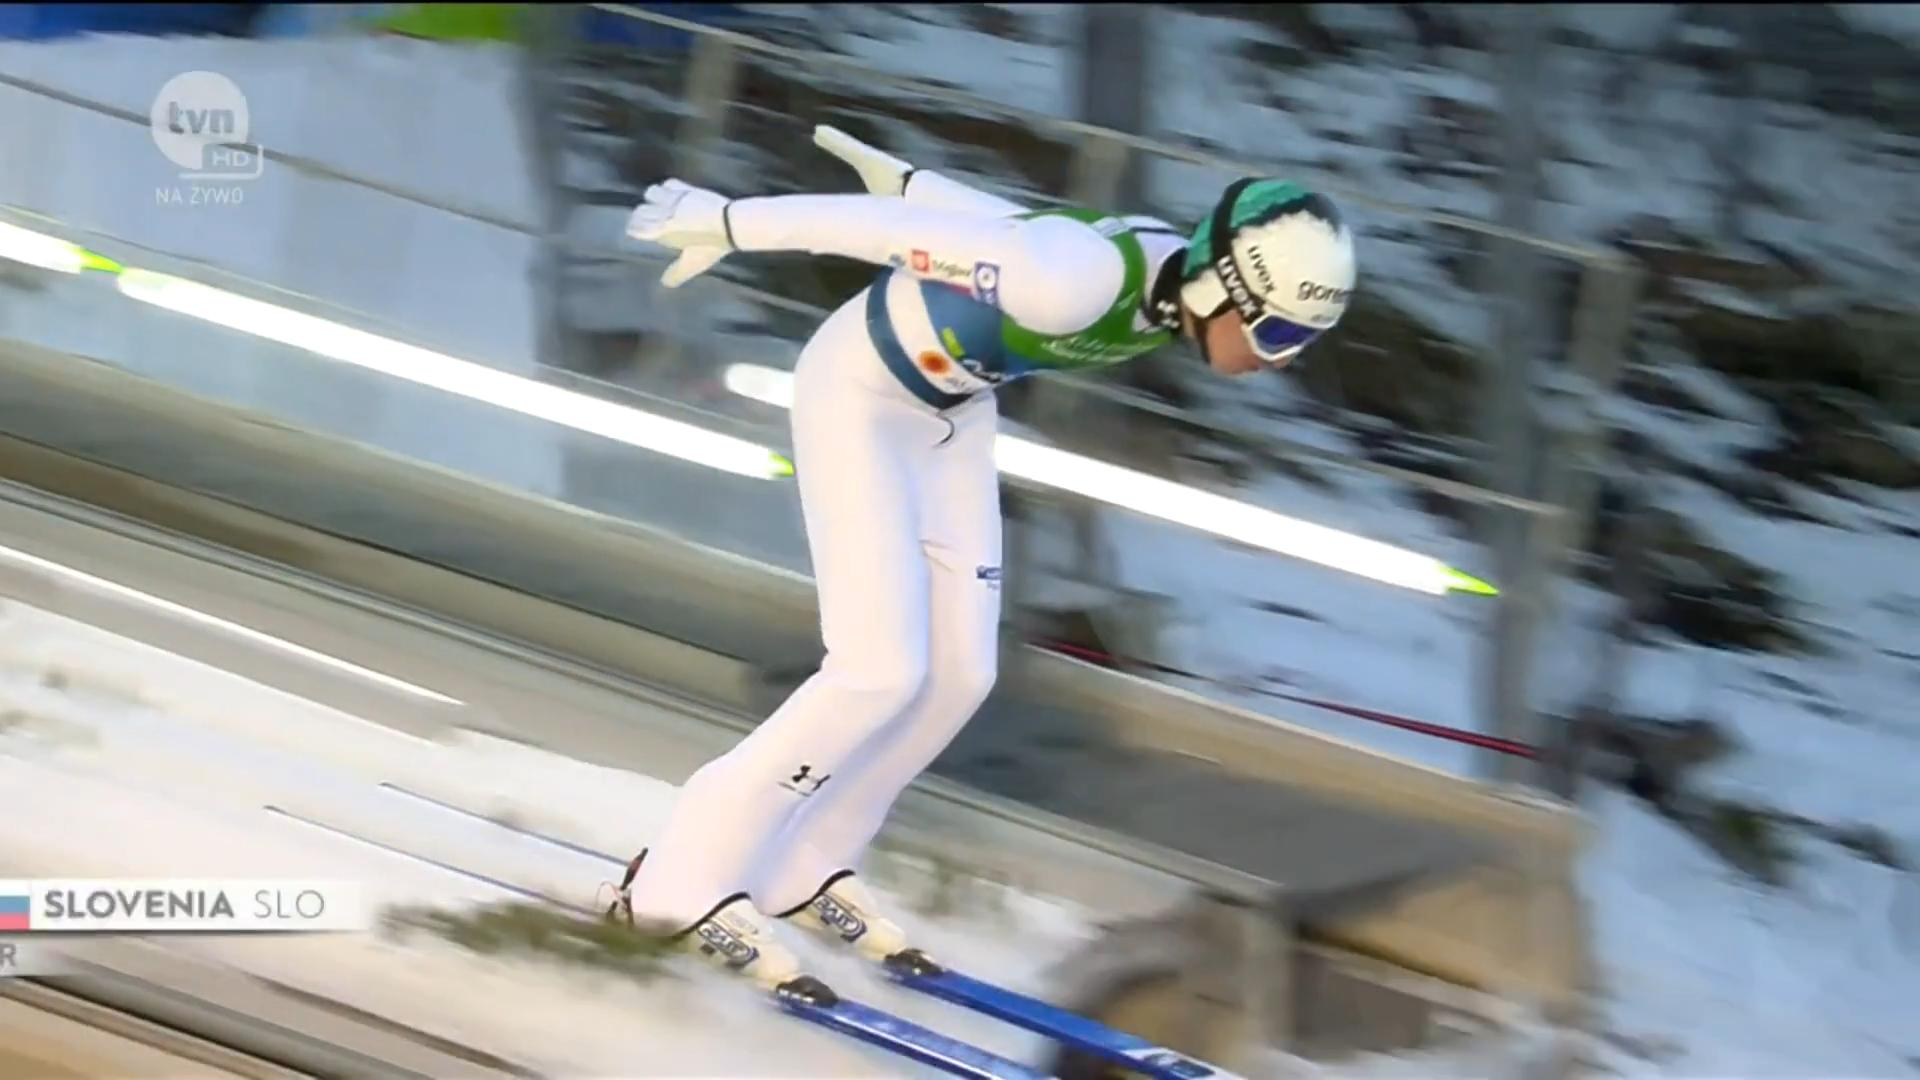prog: (1118, 845, 1491, 942)
